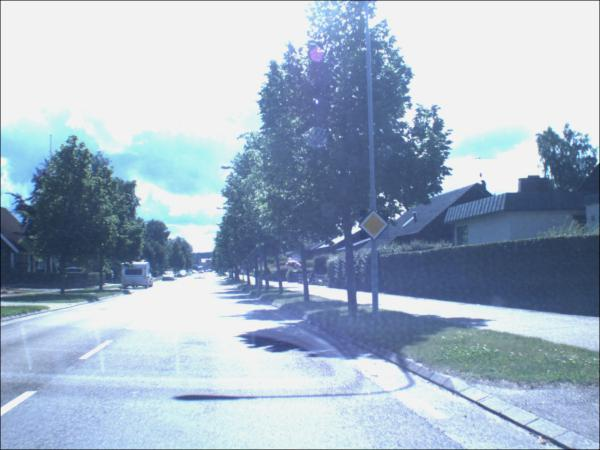PRIORITY_ROAD: (361, 211, 391, 241)
